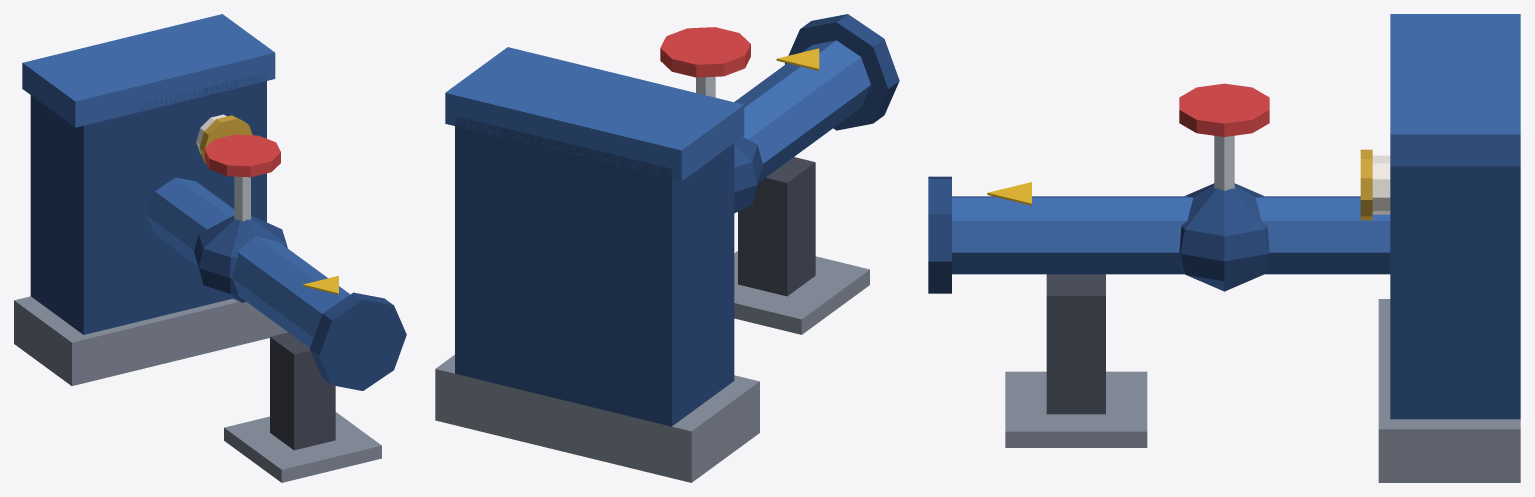
Rendered from water-inlet.glb.
3 views of the same model, side by side, from view 1: azimuth 30°, elevation 25°; view 2: azimuth 150°, elevation 25°; view 3: azimuth 270°, elevation 25° (orthographic). The views are drawn at different scales.
Parts seen in each view (by area): view 1: water-inlet; view 2: water-inlet; view 3: water-inlet.
Part boxes in pixels (box(x1,y1,x2,y2)): water-inlet: box(14, 14, 406, 482); water-inlet: box(435, 14, 899, 482); water-inlet: box(928, 14, 1520, 482).
Size of the model in its own units: 0.52 by 0.64 by 1.
1 material, 1 textured.
